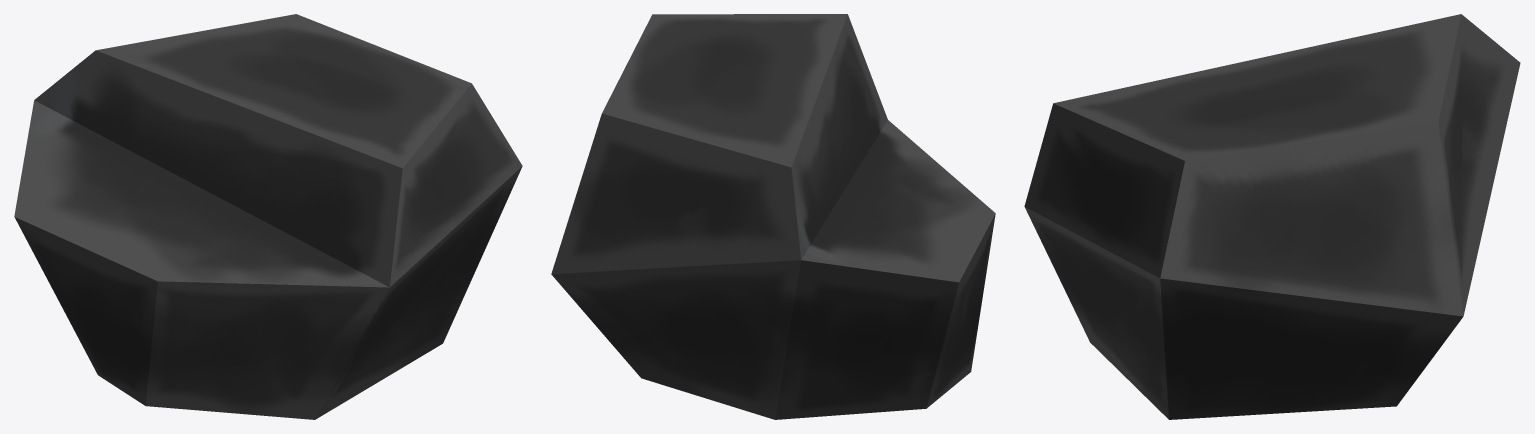
File: rock1.fbx
3 renders of one model, left to right at view 1: azimuth 30°, elevation 25°; view 2: azimuth 150°, elevation 25°; view 3: azimuth 270°, elevation 25°, orthographic. The views are drawn at different scales.
Parts seen in each view (by area): view 1: Rock; view 2: Rock; view 3: Rock.
Part boxes in pixels (x1,y1,x2,y2): Rock: [14, 14, 522, 419]; Rock: [551, 14, 995, 419]; Rock: [1024, 14, 1520, 419].
Size of the model in its own units: 135 by 81.82 by 123.
